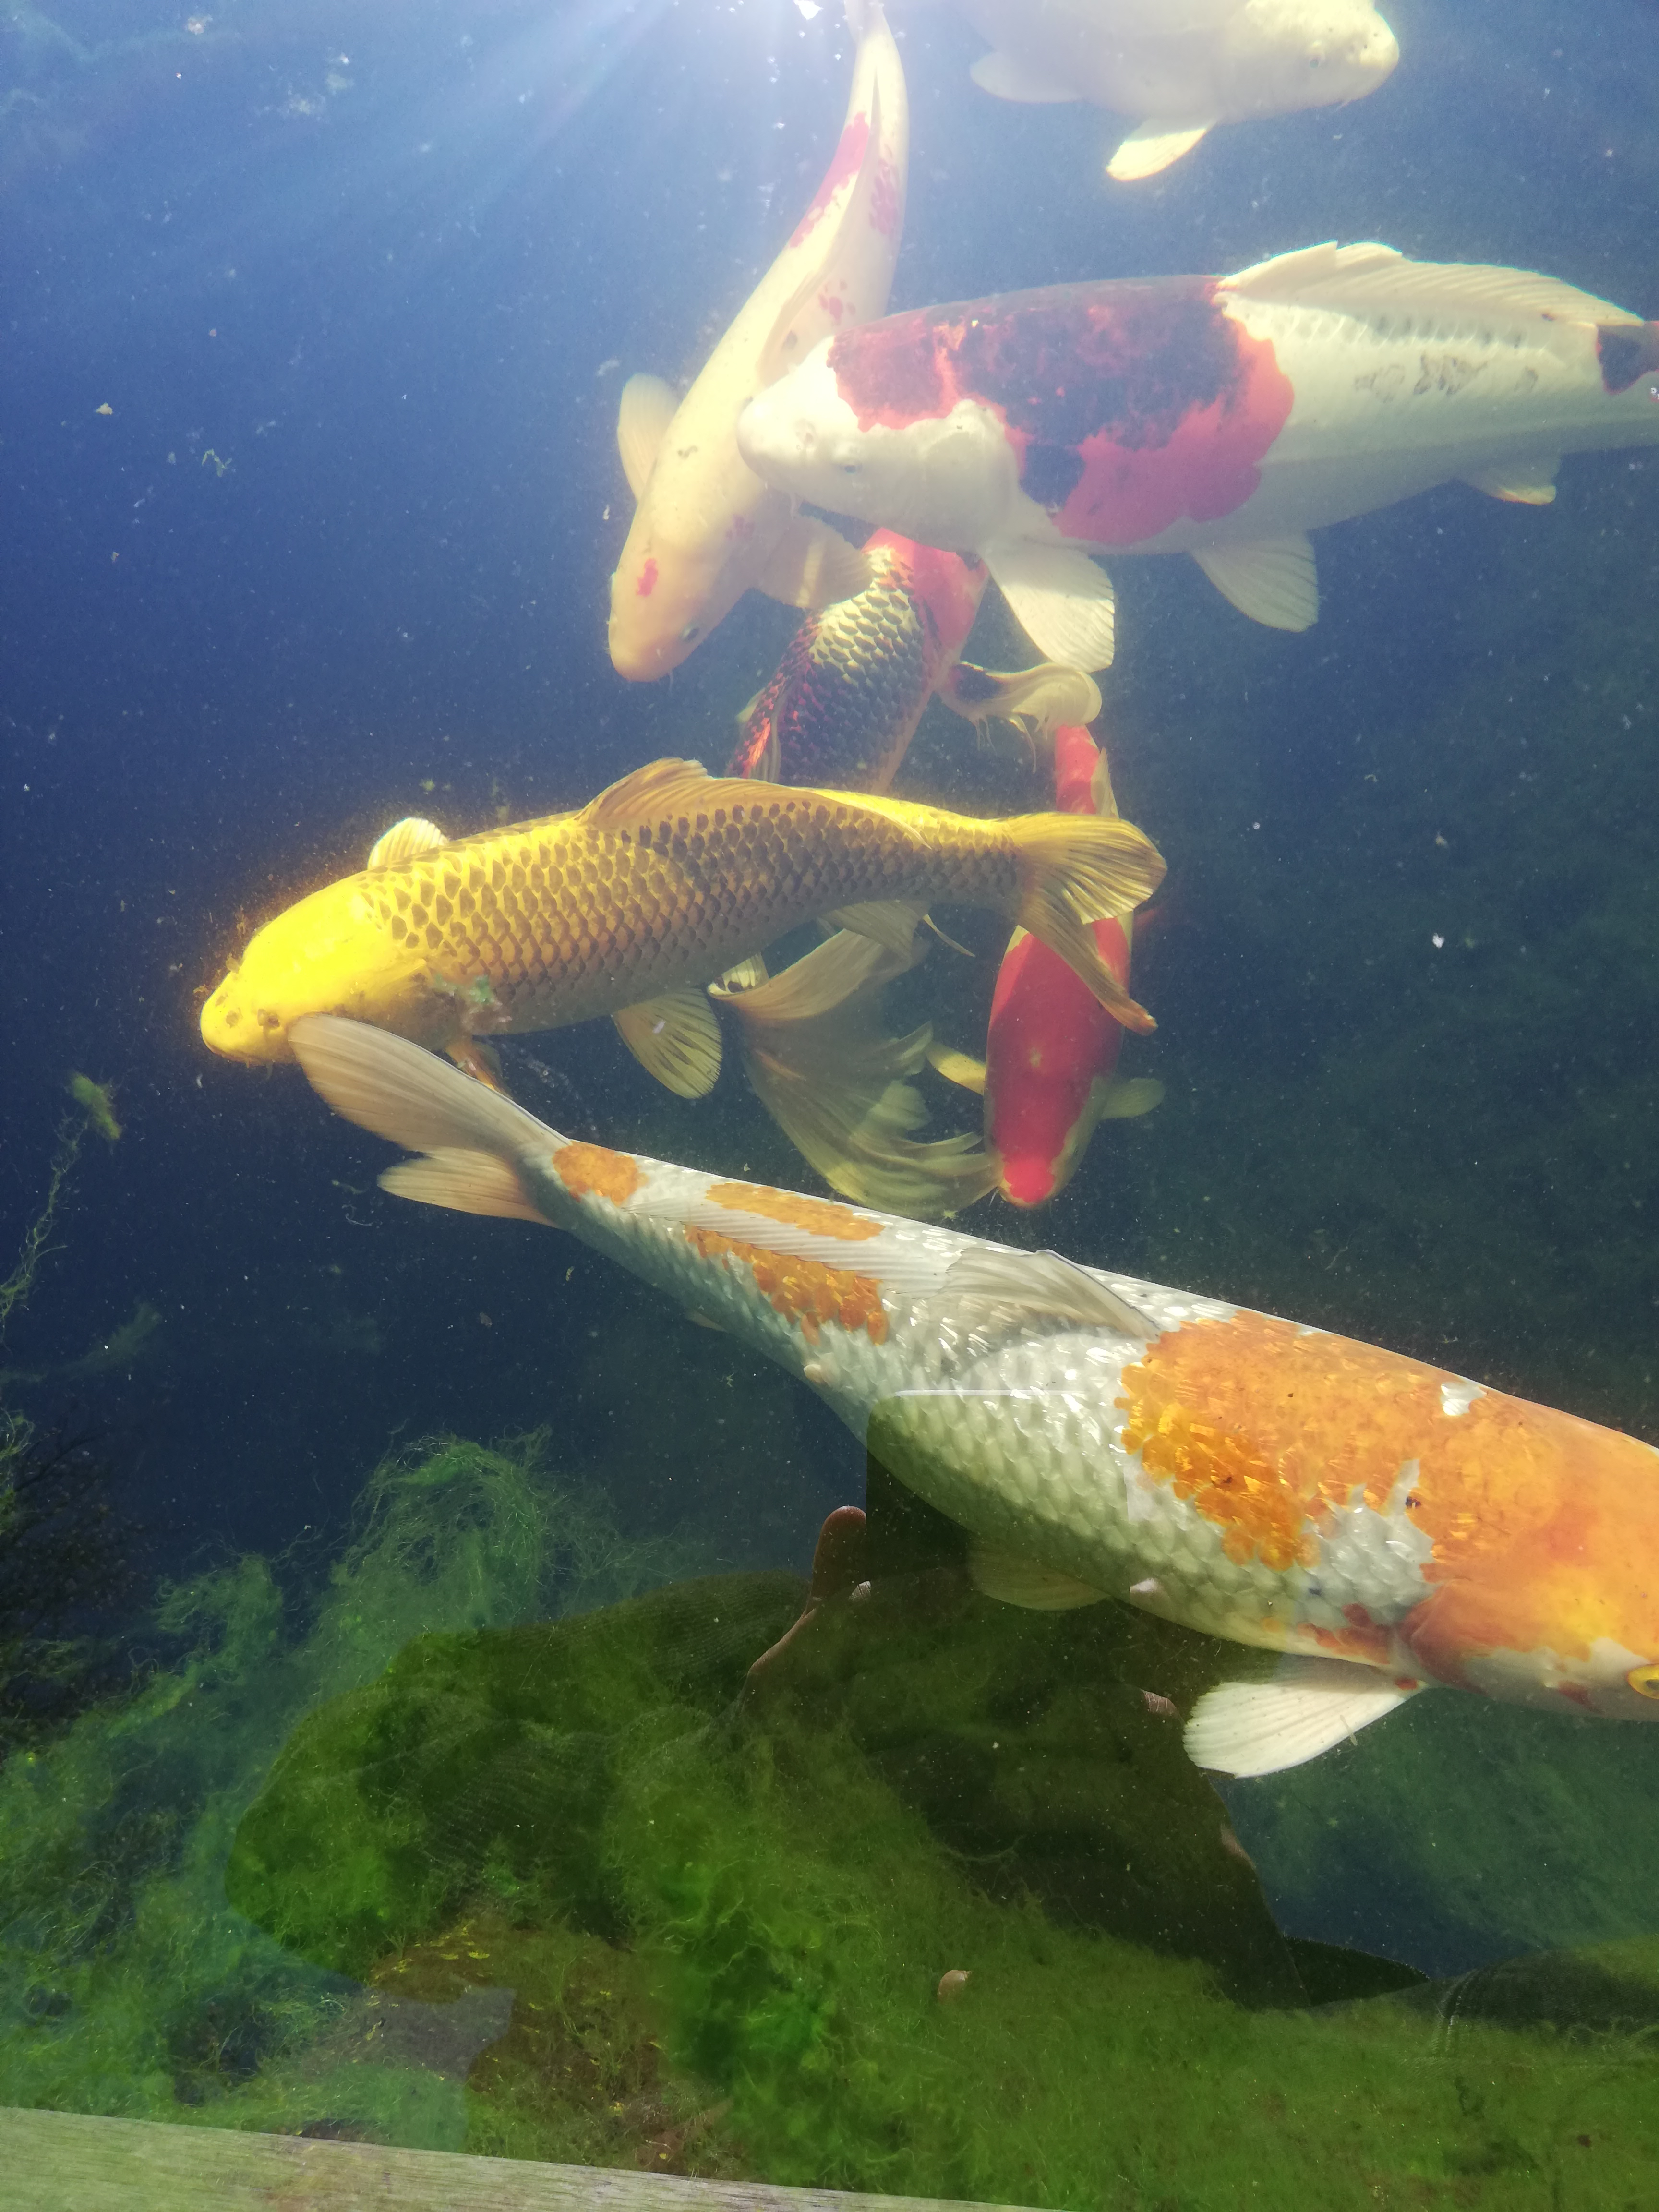Goldie: (157, 726, 1150, 1104)
Sparkle: (267, 979, 1659, 1867)
Wallie: (746, 221, 1659, 669)
